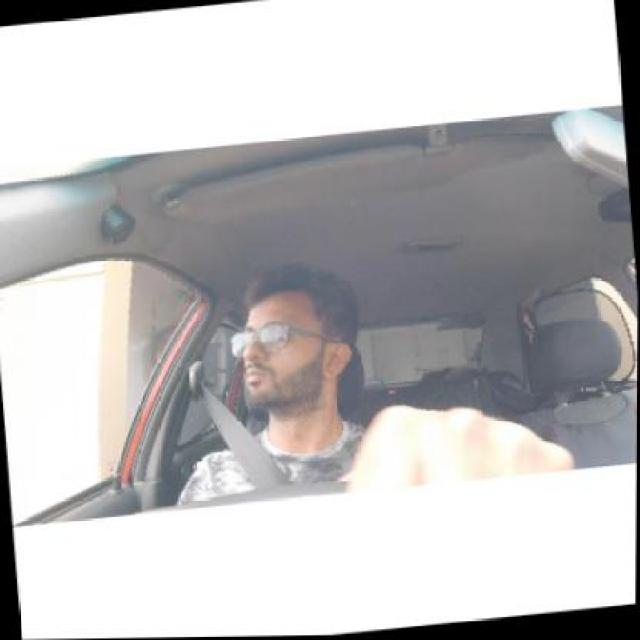LeftRight: (222, 258, 364, 444)
